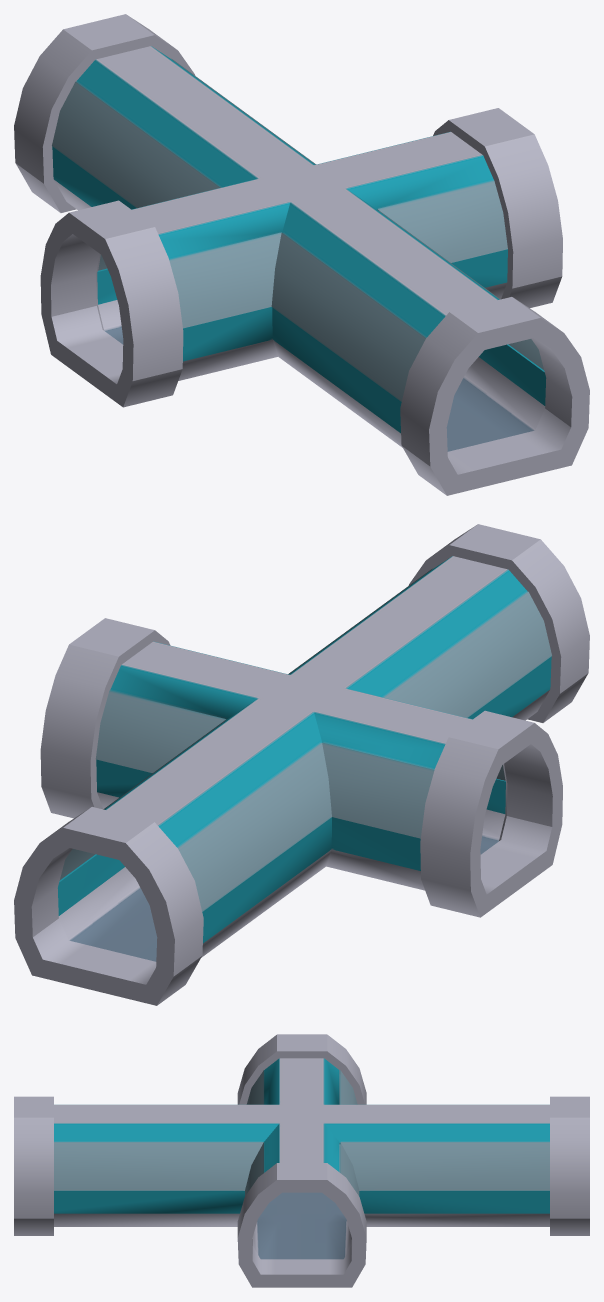
3 renders of one model, top to bottom at view 1: azimuth 30°, elevation 25°; view 2: azimuth 150°, elevation 25°; view 3: azimuth 270°, elevation 25°, orthographic. The views are drawn at different scales.
Parts seen in each view (by area): view 1: tunnel_connect_cross.003, tunnel_connect_cross.002, tunnel_connect_cross.001, tunnel_connect_cross; view 2: tunnel_connect_cross.003, tunnel_connect_cross.002, tunnel_connect_cross.001, tunnel_connect_cross; view 3: tunnel_connect_cross.003, tunnel_connect_cross.002, tunnel_connect_cross.001, tunnel_connect_cross.
Boxes of the visible parts, x1=… form: tunnel_connect_cross.003: x1=52, y1=46, x2=546, y2=451; tunnel_connect_cross.002: x1=52, y1=58, x2=544, y2=401; tunnel_connect_cross.001: x1=40, y1=108, x2=562, y2=407; tunnel_connect_cross: x1=14, y1=14, x2=589, y2=495; tunnel_connect_cross.003: x1=57, y1=556, x2=551, y2=961; tunnel_connect_cross.002: x1=59, y1=568, x2=551, y2=911; tunnel_connect_cross.001: x1=40, y1=618, x2=562, y2=917; tunnel_connect_cross: x1=14, y1=524, x2=589, y2=1005; tunnel_connect_cross.003: x1=54, y1=1058, x2=549, y2=1259; tunnel_connect_cross.002: x1=54, y1=1070, x2=549, y2=1195; tunnel_connect_cross.001: x1=237, y1=1034, x2=366, y2=1287; tunnel_connect_cross: x1=14, y1=1096, x2=589, y2=1235.
Size of the model in its own units: 3.01 by 1.04 by 5.04.
1 material, 1 textured.
